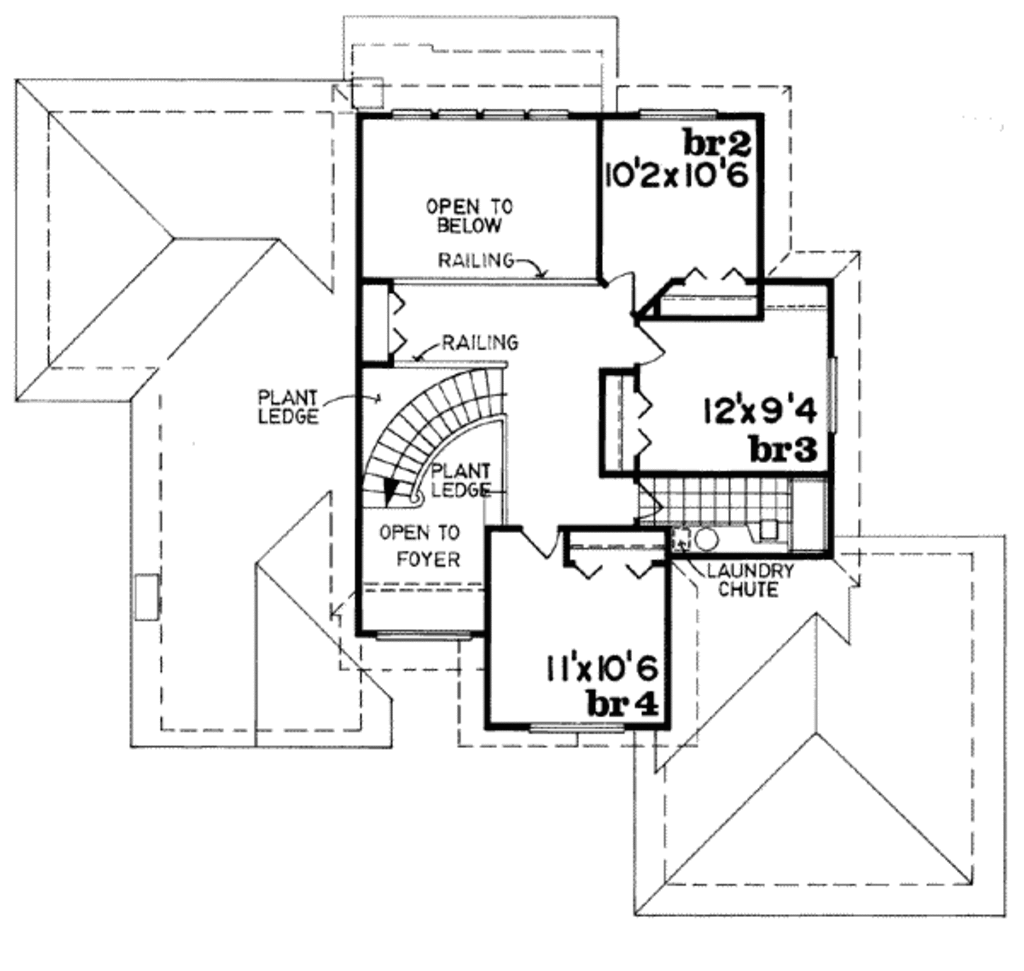door: (518, 514, 572, 567), (630, 320, 678, 372), (627, 479, 677, 524), (606, 263, 646, 314)
stairs: (340, 355, 512, 523)
window: (527, 714, 625, 736), (378, 627, 474, 647), (478, 95, 528, 126), (636, 105, 721, 122), (434, 99, 483, 123), (395, 101, 436, 122), (528, 101, 571, 120)
